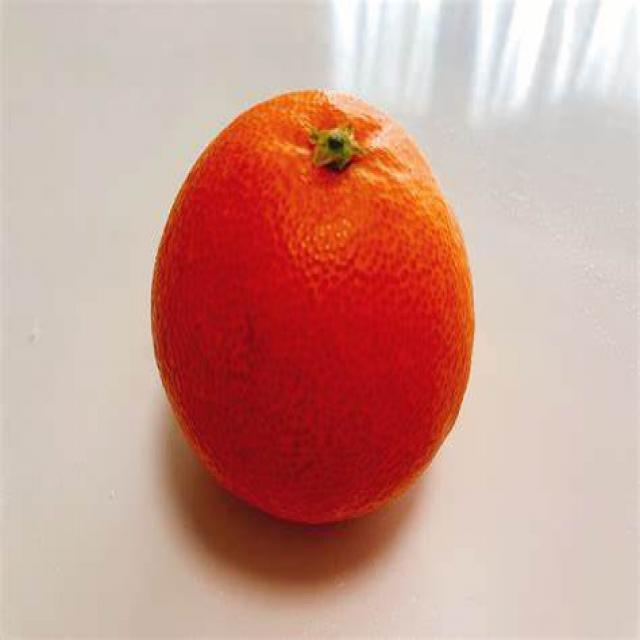Orange: (146, 87, 480, 534)
